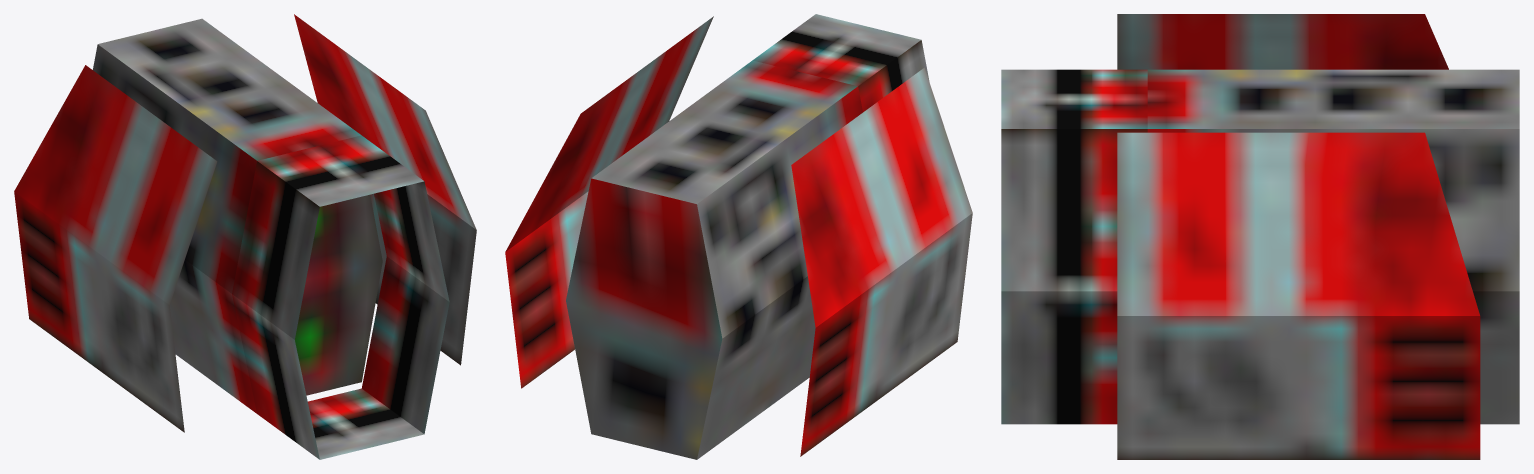
3 views of the same model, side by side, from view 1: azimuth 30°, elevation 25°; view 2: azimuth 150°, elevation 25°; view 3: azimuth 270°, elevation 25° (orthographic). The views are drawn at different scales.
Visible parts, largest first — view 1: root; view 2: root; view 3: root.
Boxes of the visible parts, left/top/right/bottom form: root: left=14, top=14, right=476, bottom=459; root: left=505, top=14, right=972, bottom=459; root: left=1001, top=14, right=1519, bottom=459.
Bounding box in the file's own units: 0.7168 × 0.6133 × 0.8984.
Materials: 1 (1 with a texture image).
